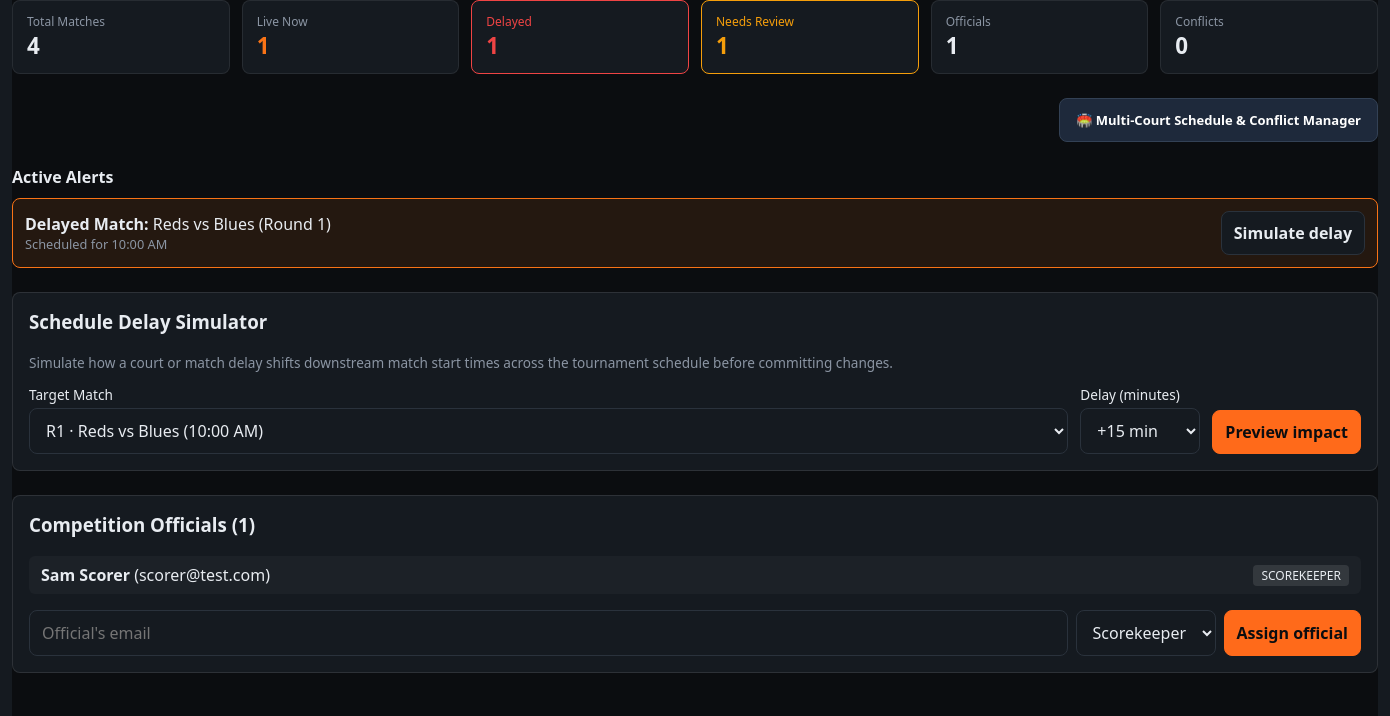
Test: CommandCenterPanel › submits new official assignment
Type "ref@test.com" into the field named "Official email to assign" at (548, 633), box [29,610,1068,656]
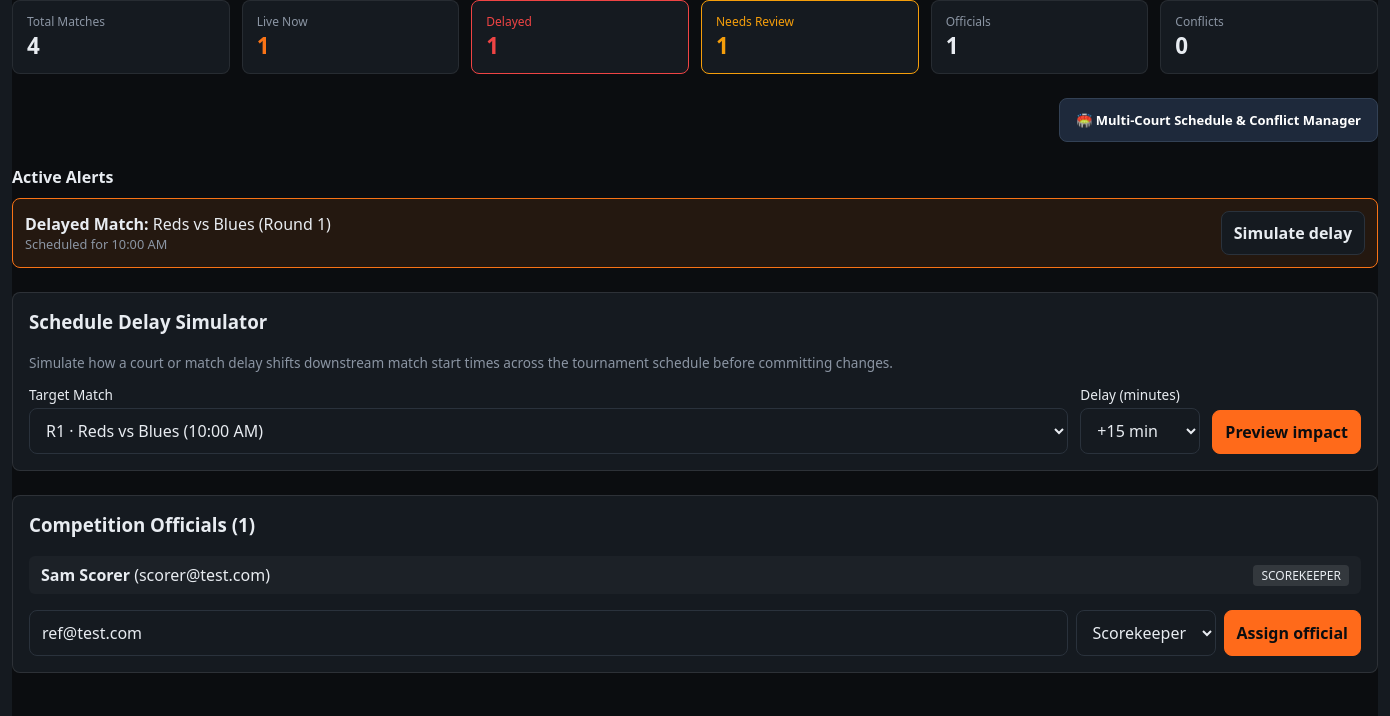
Select "Referee" in the dropdown named "Official role" at (1146, 633), box [1076,610,1216,656]
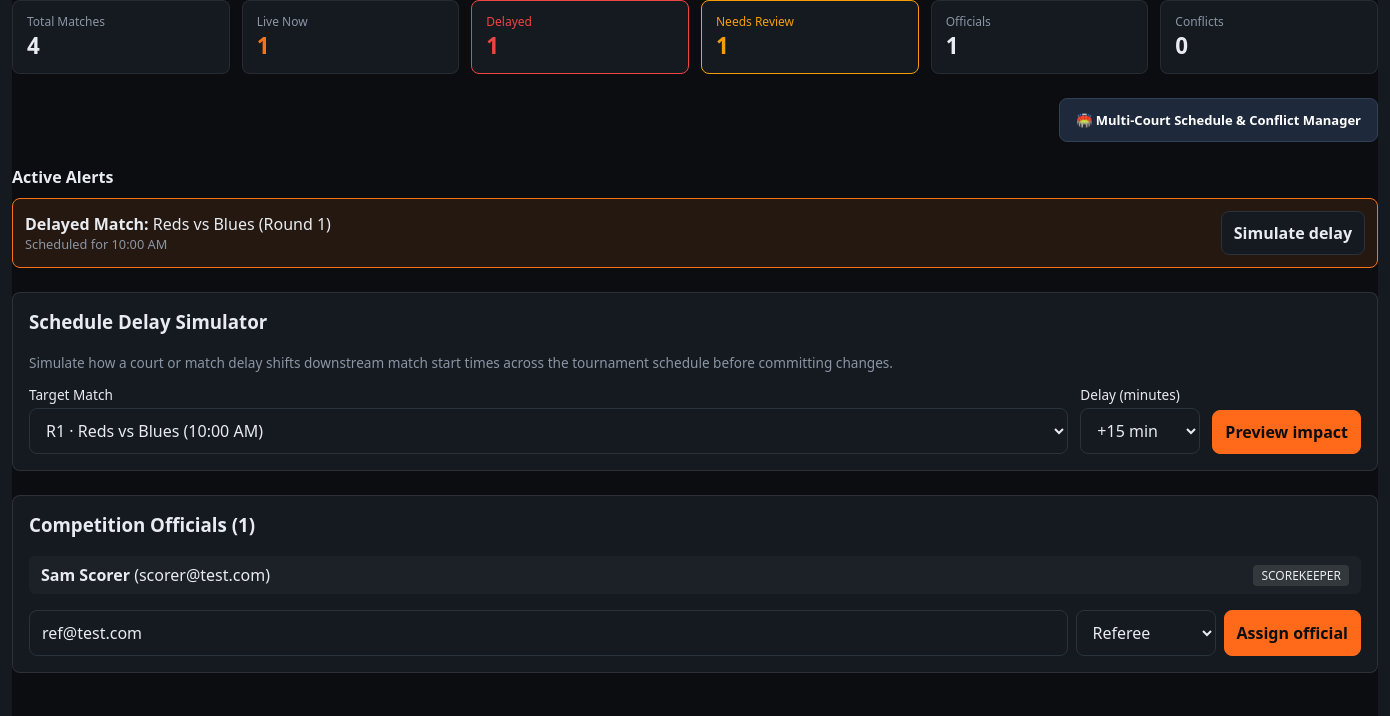
Click the button "Assign official" at (1292, 633), box [1224,610,1361,656]
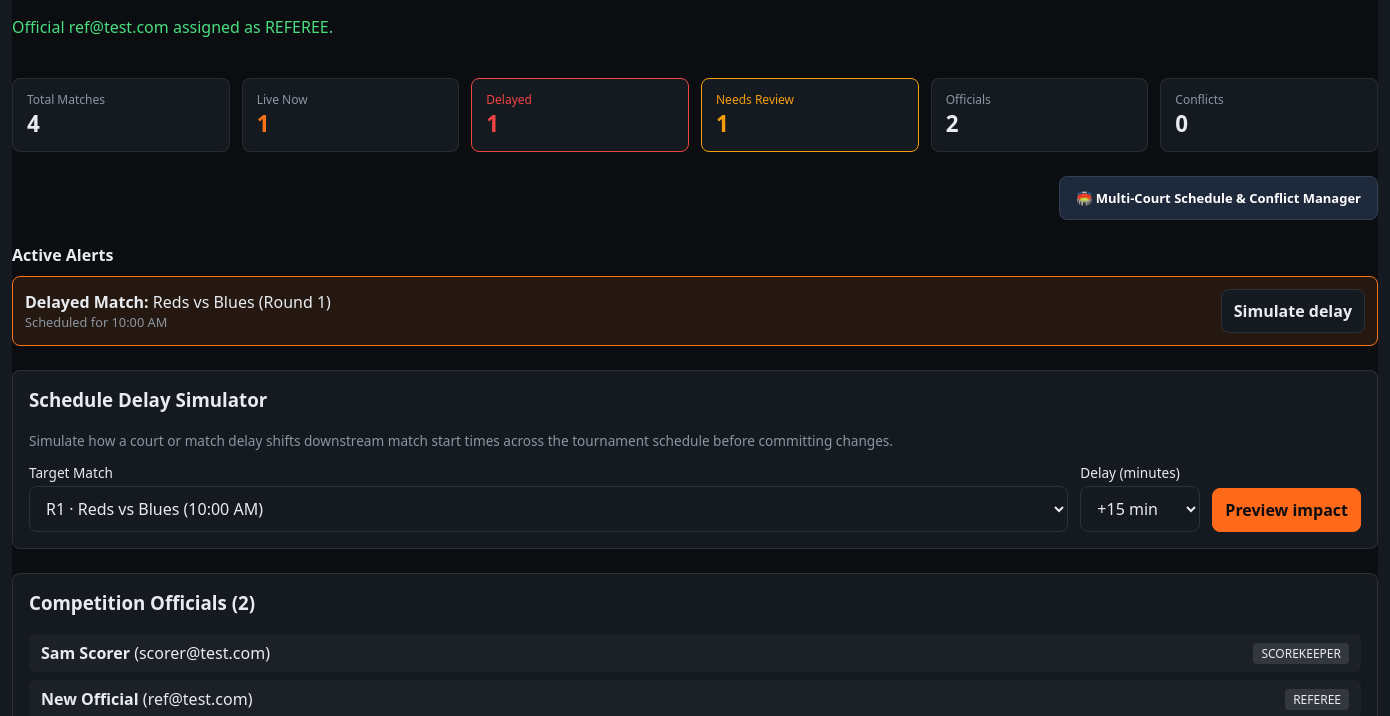
Expected: the text "Official ref@test.com assigned as REFEREE." is shown, [12,16,333,38]
